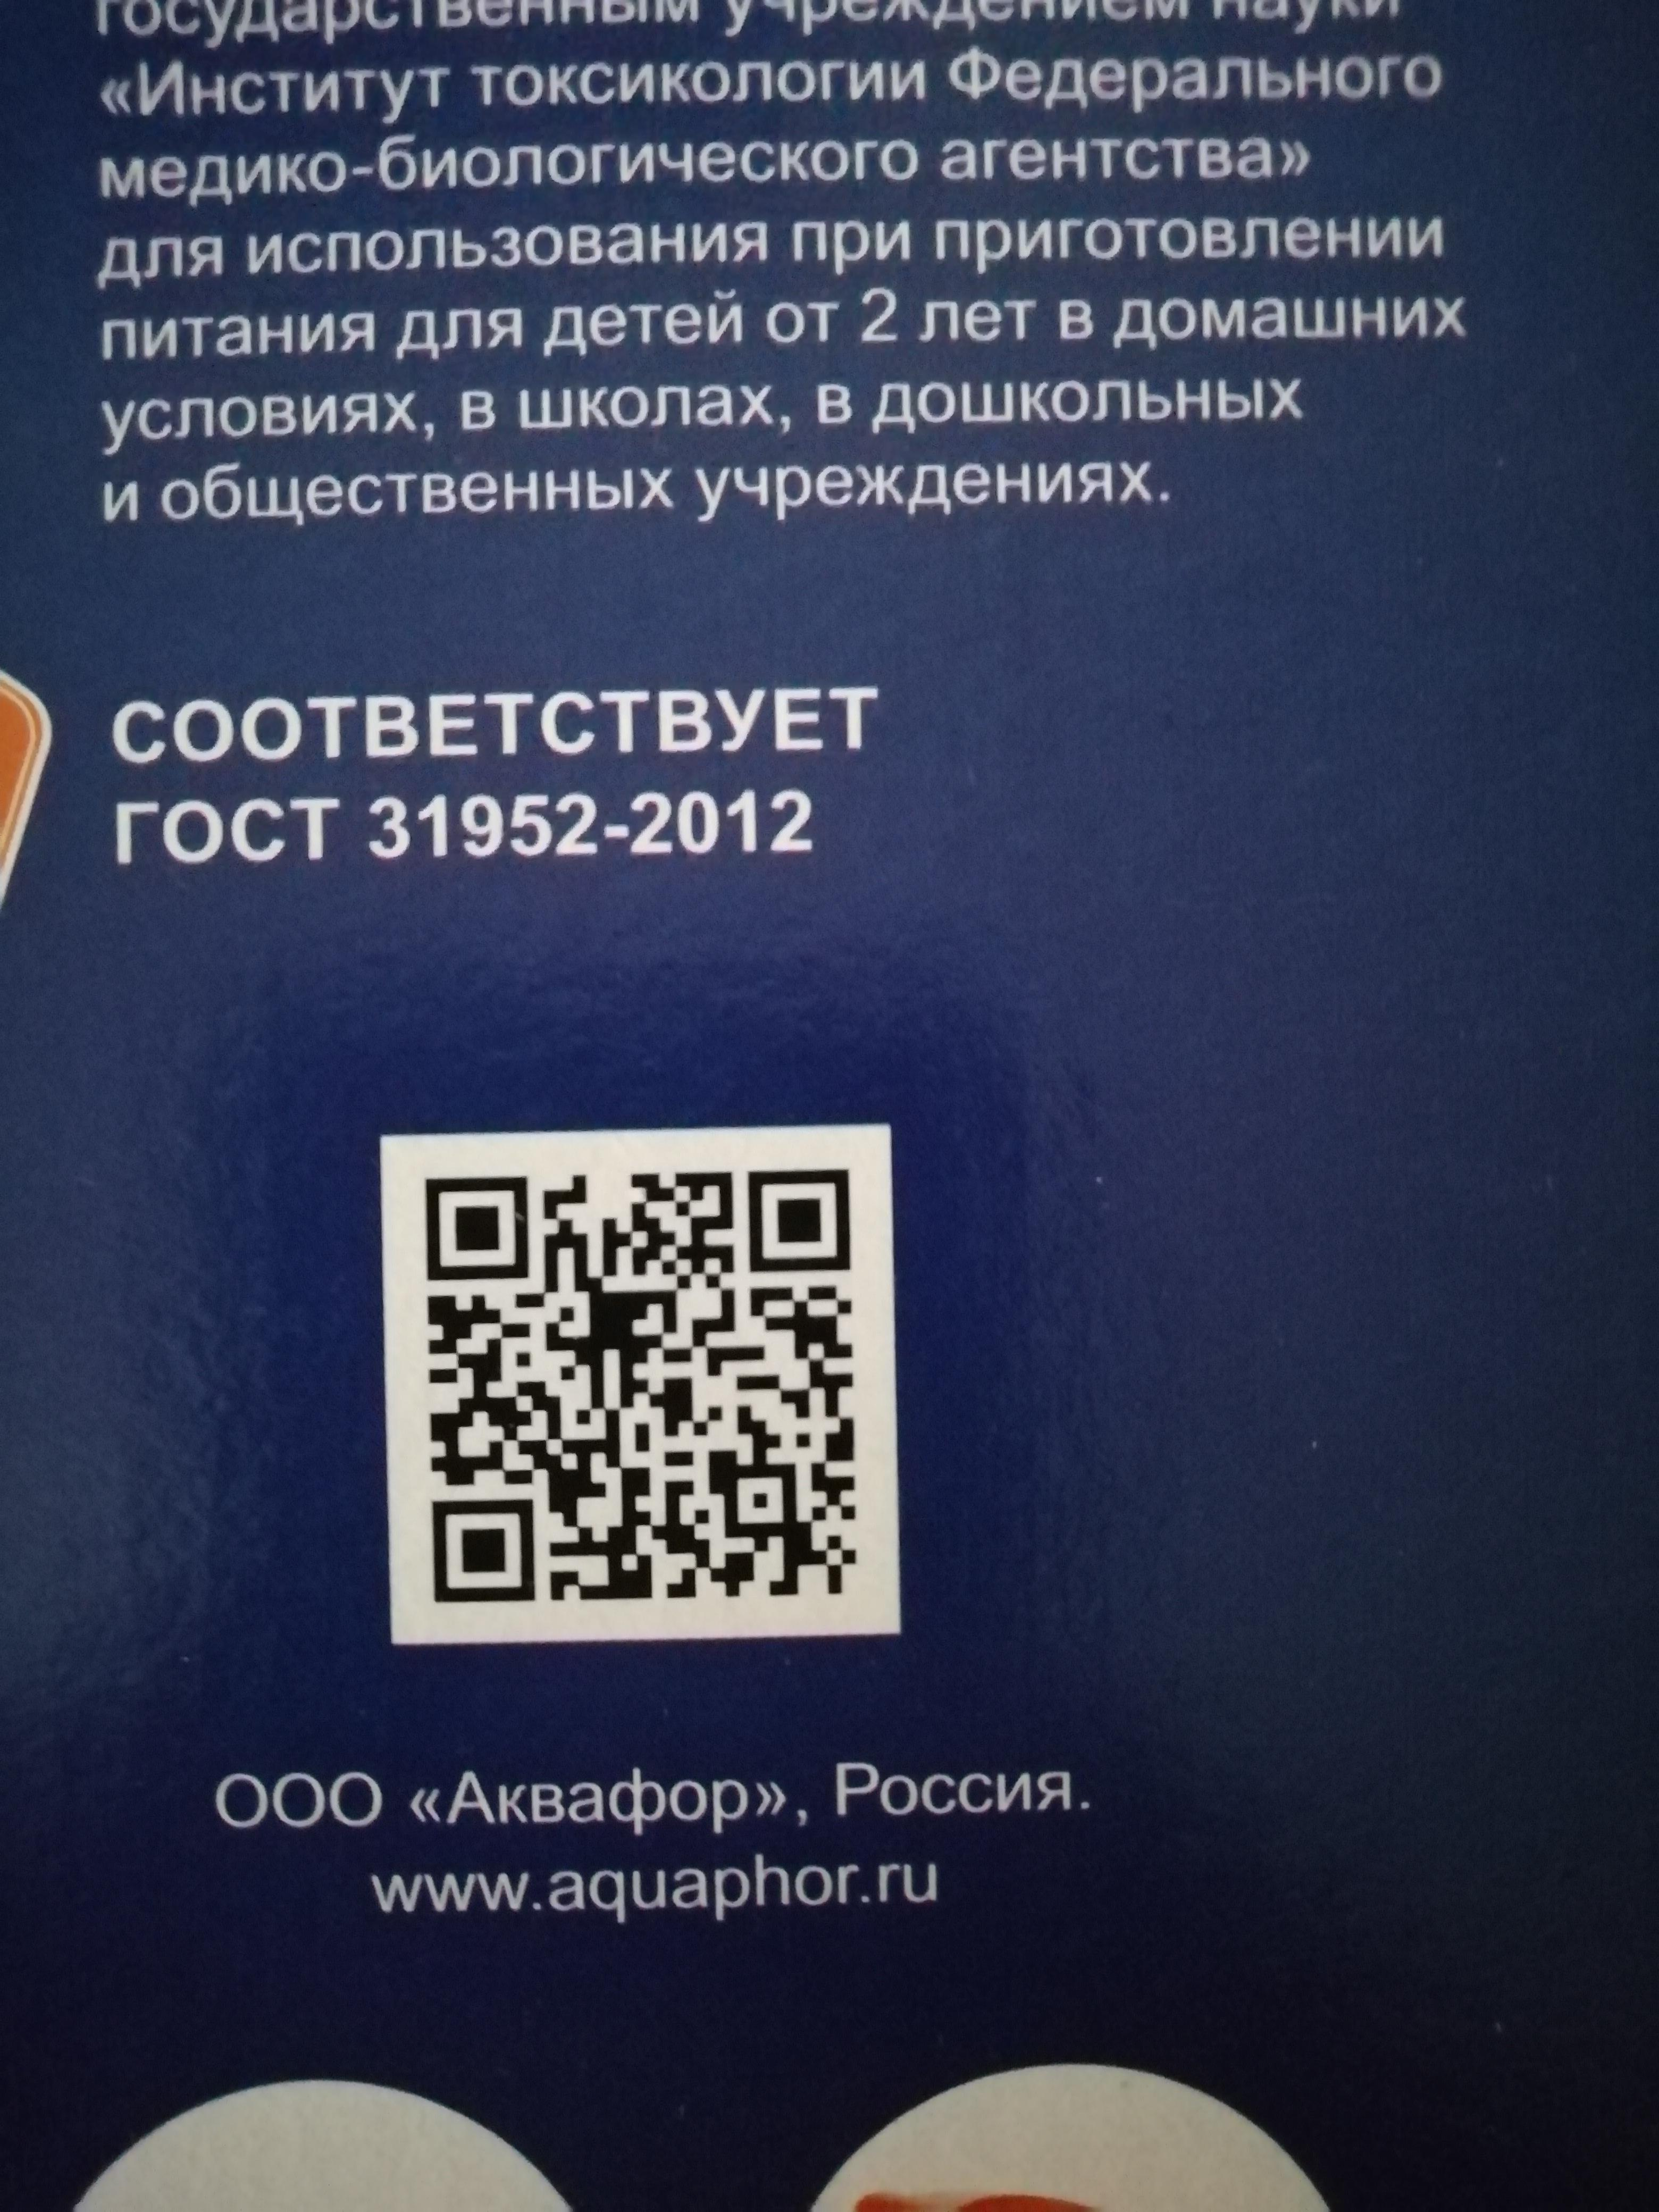qrcode: (425, 1165, 854, 1606)
